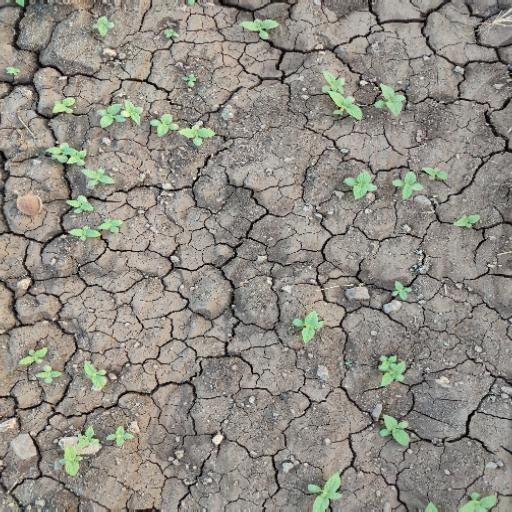crop: (46, 150, 127, 248), (95, 95, 216, 150), (314, 65, 418, 121), (337, 154, 446, 204), (19, 348, 118, 396), (300, 477, 352, 512), (373, 348, 408, 387), (234, 17, 283, 44), (292, 312, 330, 343)
